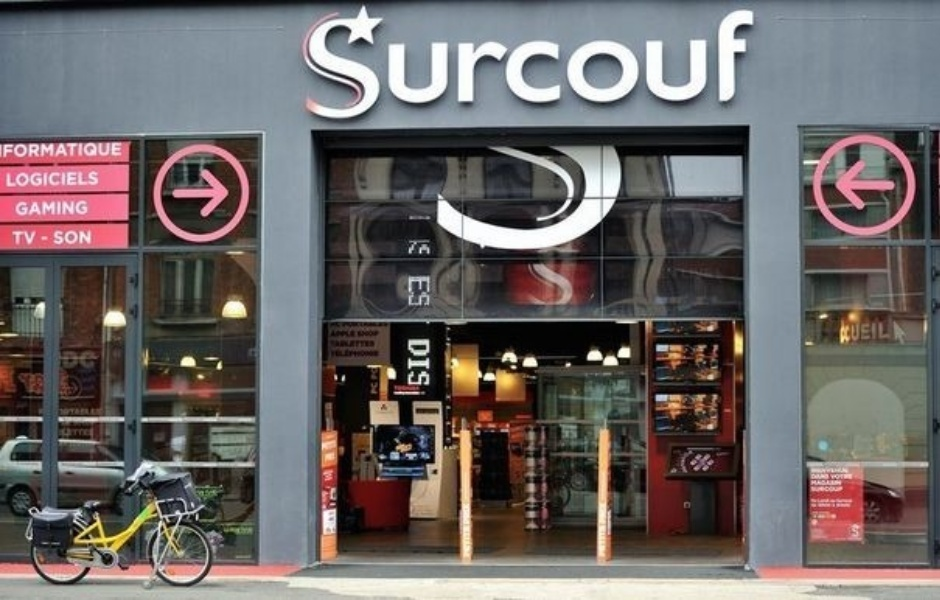text: (305, 8, 320, 120), (321, 8, 336, 120), (337, 8, 352, 120), (353, 8, 368, 120), (369, 8, 384, 120), (385, 8, 400, 120), (401, 8, 416, 120), (417, 8, 432, 120), (433, 8, 448, 120), (449, 8, 464, 120), (465, 8, 480, 120), (481, 8, 496, 120), (497, 8, 512, 120), (513, 8, 528, 120), (529, 8, 544, 120), (545, 8, 560, 120), (561, 8, 576, 120), (577, 8, 592, 120), (593, 8, 608, 120), (609, 8, 624, 120), (625, 8, 640, 120), (641, 8, 656, 120), (657, 8, 672, 120), (673, 8, 688, 120), (689, 8, 704, 120), (705, 8, 720, 120), (721, 8, 736, 120), (737, 8, 752, 120), (529, 246, 544, 305), (545, 246, 560, 305), (561, 246, 575, 305), (417, 338, 429, 386), (417, 276, 431, 307), (408, 338, 416, 386), (65, 347, 80, 372), (81, 347, 96, 372), (849, 319, 864, 342), (865, 319, 880, 342), (17, 170, 32, 187), (33, 170, 48, 187), (49, 170, 64, 187), (65, 170, 80, 187), (81, 170, 96, 187), (17, 229, 32, 246), (408, 276, 416, 307), (17, 199, 32, 215), (33, 199, 48, 215), (49, 199, 64, 215), (65, 199, 80, 215), (17, 142, 32, 157), (33, 142, 48, 157), (49, 142, 64, 157), (65, 142, 80, 157), (81, 142, 96, 157), (97, 142, 112, 157), (302, 8, 304, 120), (2, 142, 16, 157), (65, 231, 80, 245), (850, 524, 864, 538), (322, 468, 336, 482), (5, 170, 16, 187), (840, 319, 848, 342), (881, 319, 889, 342), (53, 231, 64, 245), (322, 439, 336, 450), (113, 142, 123, 157), (817, 510, 832, 520), (81, 231, 91, 245), (65, 408, 80, 417), (81, 408, 96, 417), (65, 428, 80, 437), (81, 428, 95, 437), (325, 451, 336, 462), (81, 199, 88, 215), (753, 8, 754, 120), (817, 485, 832, 492), (833, 467, 849, 473), (817, 467, 832, 473), (337, 350, 352, 356), (353, 350, 368, 356), (337, 341, 352, 347), (353, 341, 368, 347), (11, 229, 16, 246), (97, 408, 106, 417), (61, 347, 64, 372), (817, 498, 832, 503), (833, 498, 848, 503), (337, 322, 352, 327), (353, 322, 368, 327), (369, 322, 384, 327), (833, 485, 843, 492), (369, 350, 380, 356), (817, 475, 832, 479), (833, 475, 848, 479), (817, 481, 832, 485), (817, 503, 832, 507), (833, 503, 848, 507), (337, 332, 352, 336), (527, 246, 528, 305), (58, 408, 64, 417), (58, 428, 64, 437), (97, 170, 100, 187), (33, 229, 36, 246), (810, 485, 816, 492), (358, 332, 368, 336), (330, 350, 336, 356), (330, 341, 336, 347), (369, 332, 378, 336), (41, 235, 48, 240), (833, 481, 841, 485), (328, 332, 336, 336), (810, 498, 816, 503), (813, 510, 816, 520), (833, 510, 836, 520), (330, 322, 336, 327), (97, 347, 98, 372), (812, 467, 816, 473), (810, 475, 816, 479), (810, 481, 816, 485), (810, 503, 816, 507), (369, 341, 373, 347), (849, 498, 853, 503), (849, 475, 853, 479), (849, 503, 852, 507), (385, 322, 387, 327), (353, 332, 355, 336)
